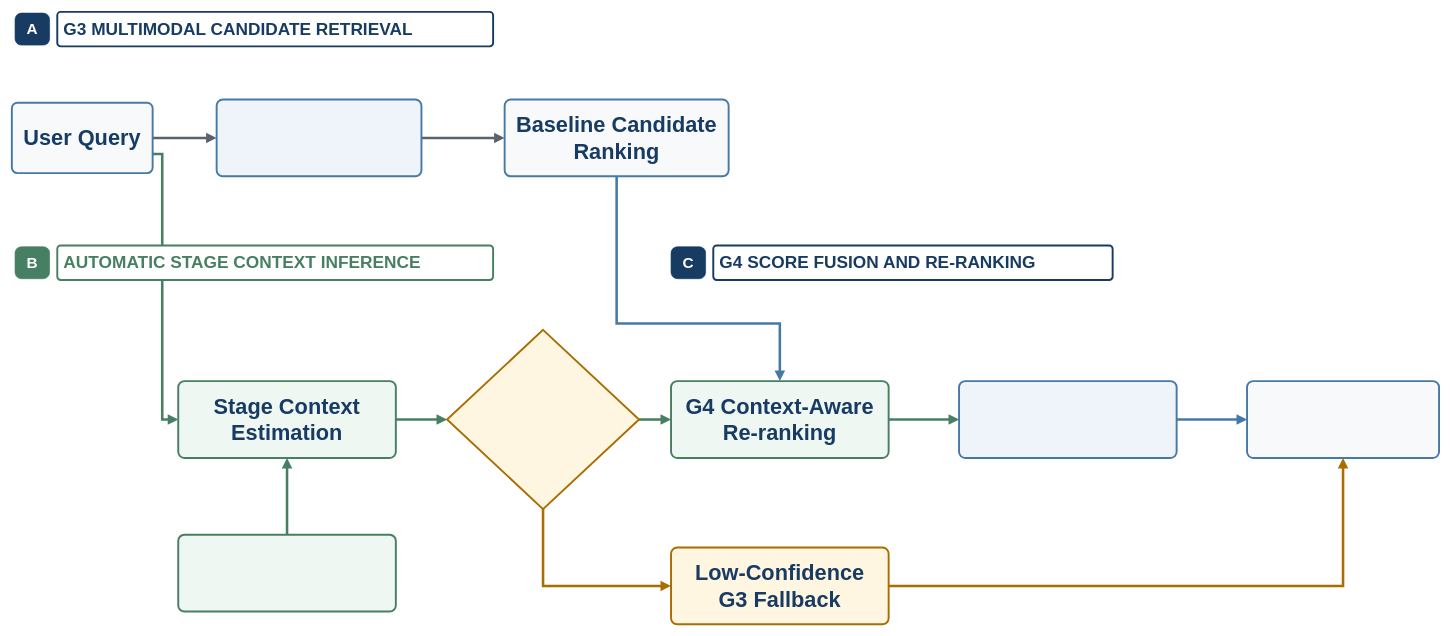
Some shapes in this 1451 by 636 pixel diagram are drawn without their labels. Here are the shapes that lost their labels. From the top down, the centre of each, then its label:
point 318,137: G3 Candidate Retrieval
point 543,419: Stage confidence >= 0.45 margin >= 0.03
point 1067,419: Text and Image Score Fusion
point 1343,419: Final Top-k Evidence
point 286,572: Manual-Derived Context Map
